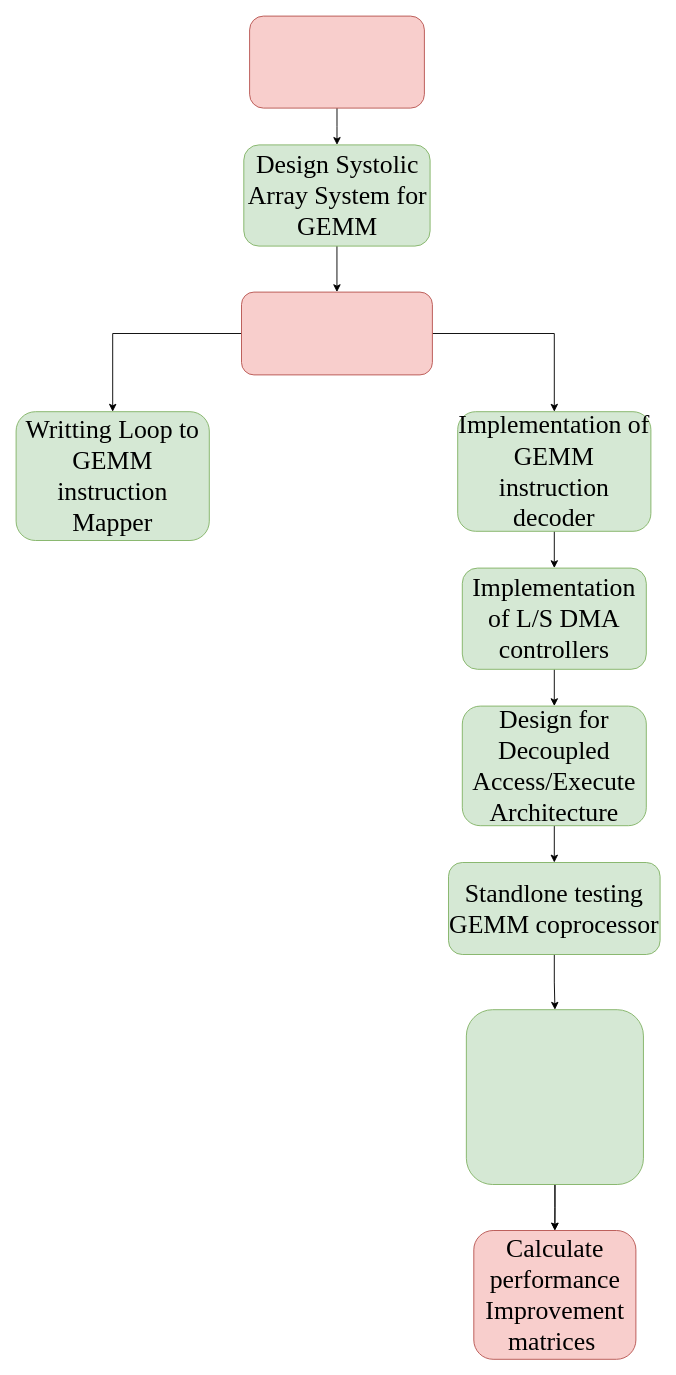
The diagram is 676 pixels wide and 1375 high, and some of its shapes have lost their labels. Here are the shapes that lost their labels. From the top down, the centre of each, then its label:
At point 336,61: "Scout Previous Work Done".
At point 336,333: "Design Custom Instruction Format".
At point 554,1096: "Integrating and testing GEMM coprocessor with RISCV core".
